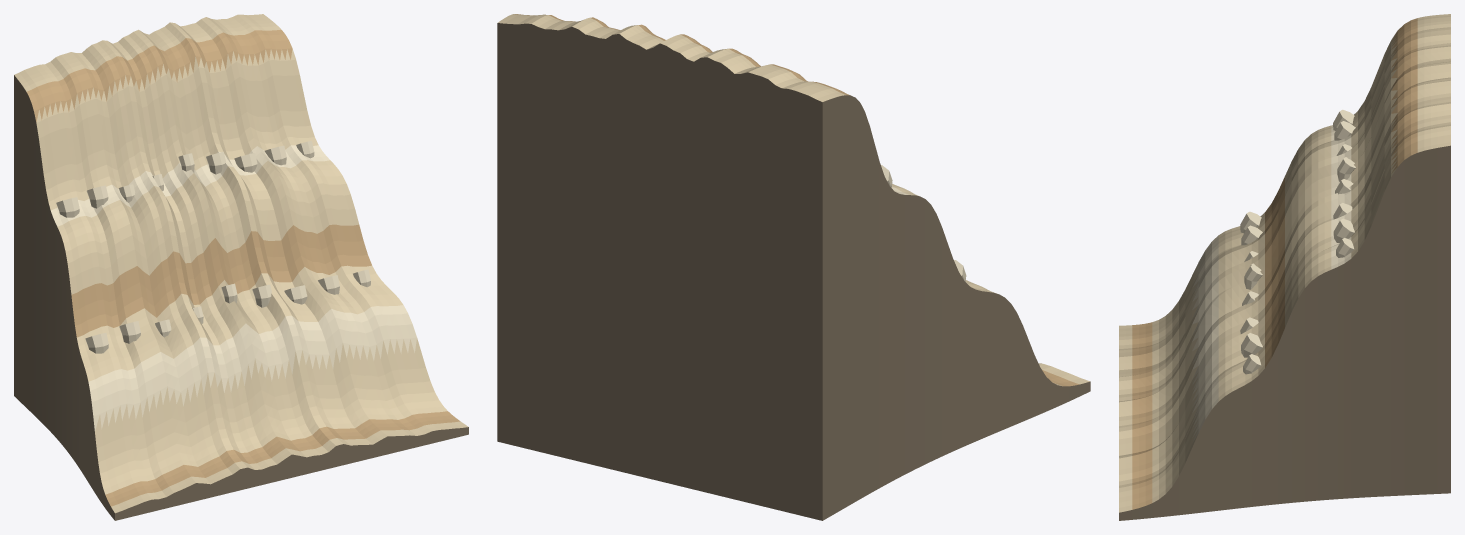
The picture shows the model from 3 angles, left to right: view 1: azimuth 30°, elevation 25°; view 2: azimuth 150°, elevation 25°; view 3: azimuth 270°, elevation 25°; orthographic projection. The views are drawn at different scales.
Parts seen in each view (by area): view 1: connected_calcite_sheet_over_host_volume, eighteen_rounded_lip_tongues; view 2: connected_calcite_sheet_over_host_volume; view 3: connected_calcite_sheet_over_host_volume, eighteen_rounded_lip_tongues.
Boxes of the visible parts, x1,y1,x2,y2 form: connected_calcite_sheet_over_host_volume: (14, 14, 468, 520); eighteen_rounded_lip_tongues: (56, 140, 370, 353); connected_calcite_sheet_over_host_volume: (497, 14, 1090, 520); connected_calcite_sheet_over_host_volume: (1119, 14, 1450, 520); eighteen_rounded_lip_tongues: (1240, 109, 1355, 374).
Bounding box in the file's own units: 4 × 3.63 × 3.
